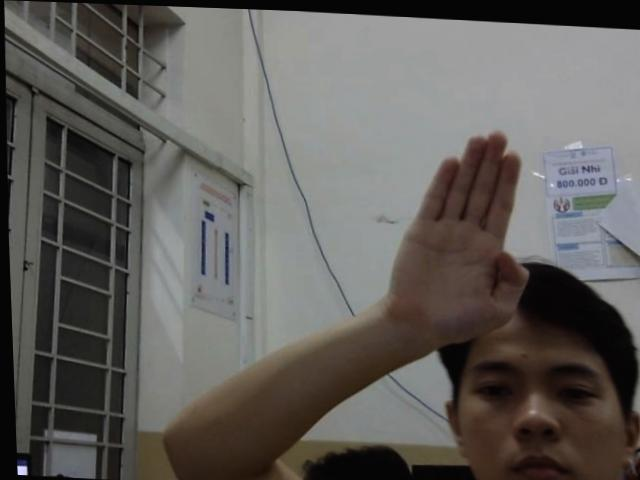B: (372, 118, 536, 325)
